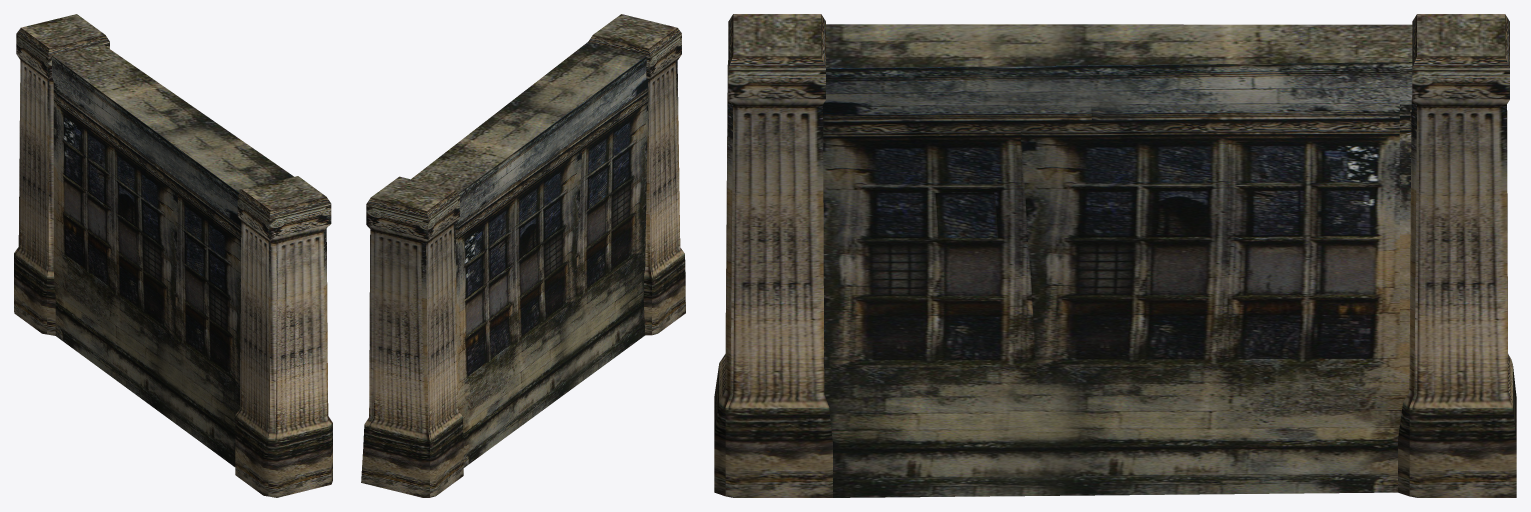
Rendered from Sf_wall_4.FBX.
3 views of the same model, side by side, from view 1: azimuth 30°, elevation 25°; view 2: azimuth 150°, elevation 25°; view 3: azimuth 270°, elevation 25° (orthographic). The views are drawn at different scales.
Parts seen in each view (by area): view 1: Box10; view 2: Box10; view 3: Box10.
Boxes of the visible parts, box(x1,y1,x2,y2) form: Box10: box(14, 14, 332, 497); Box10: box(361, 14, 685, 497); Box10: box(714, 14, 1516, 497).
Size of the model in its own units: 38.95 by 151 by 252.
1 material, 1 textured.
